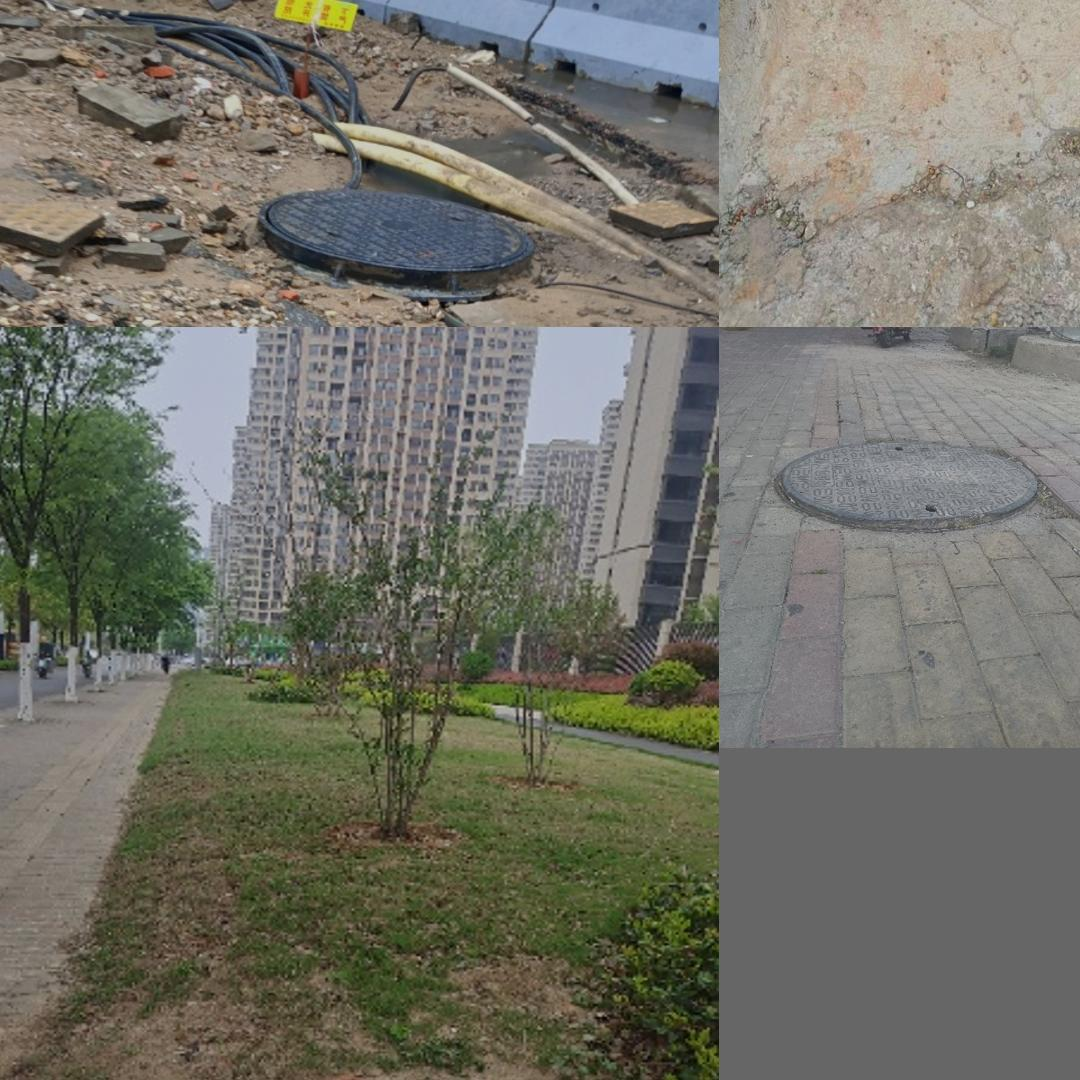good: (776, 438, 1037, 531), (256, 190, 534, 274)
